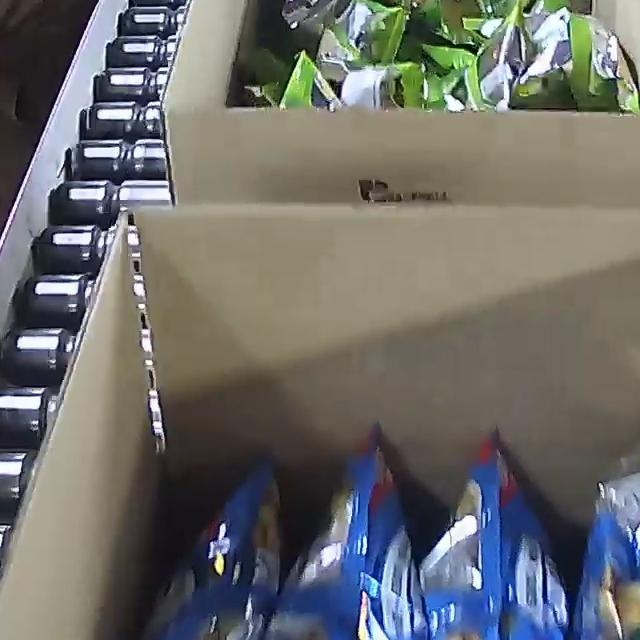paprika: (97, 384, 640, 640)
yogurt: (275, 0, 640, 130)
